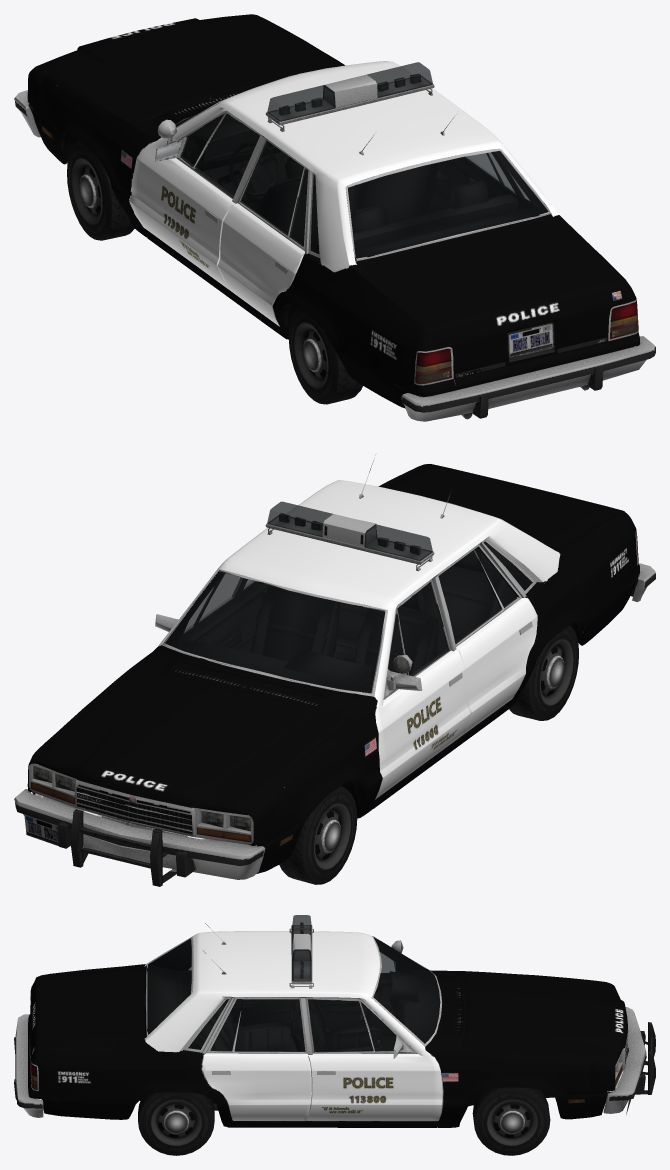
Rendered from fairheaven_cop.glb.
The picture shows the model from 3 angles, top to bottom: view 1: azimuth 30°, elevation 25°; view 2: azimuth 150°, elevation 25°; view 3: azimuth 270°, elevation 25°; orthographic projection. The views are drawn at different scales.
Visible parts, largest first — view 1: Body, Glass, Interior, Trim, WheelRL, WheelFL, LightsRear; view 2: Body, Glass, Trim, Interior, WheelFL, WheelRL, LightsFront; view 3: Body, Glass, Interior, Trim, WheelFR, WheelRR.
Part boxes in pixels (x1=…): Body: x1=27, y1=14, x2=639, y2=408; Glass: x1=175, y1=62, x2=548, y2=258; Interior: x1=175, y1=73, x2=548, y2=305; Trim: x1=14, y1=67, x2=655, y2=421; WheelRL: x1=288, y1=309, x2=362, y2=404; WheelFL: x1=67, y1=142, x2=134, y2=240; LightsRear: x1=415, y1=300, x2=638, y2=383; Body: x1=27, y1=464, x2=639, y2=873; Glass: x1=164, y1=501, x2=532, y2=693; Trim: x1=14, y1=460, x2=655, y2=886; Interior: x1=165, y1=513, x2=532, y2=783; WheelFL: x1=279, y1=786, x2=357, y2=884; WheelRL: x1=509, y1=625, x2=578, y2=720; LightsFront: x1=31, y1=765, x2=251, y2=842; Body: x1=28, y1=931, x2=627, y2=1127; Glass: x1=147, y1=915, x2=440, y2=1051; Interior: x1=147, y1=922, x2=440, y2=1051; Trim: x1=14, y1=923, x2=655, y2=1127; WheelFR: x1=472, y1=1087, x2=550, y2=1155; WheelRR: x1=138, y1=1092, x2=214, y2=1155.
Bounding box in the file's own units: 6.21 × 5.34 × 17.26.
Materials: 6 (5 with a texture image).
